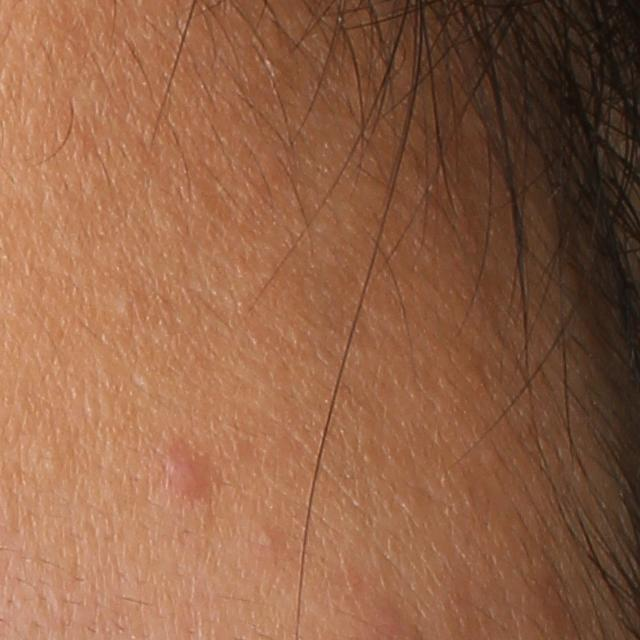comedo: (112, 289, 135, 317), (258, 528, 279, 552)
papule: (164, 447, 217, 506)
